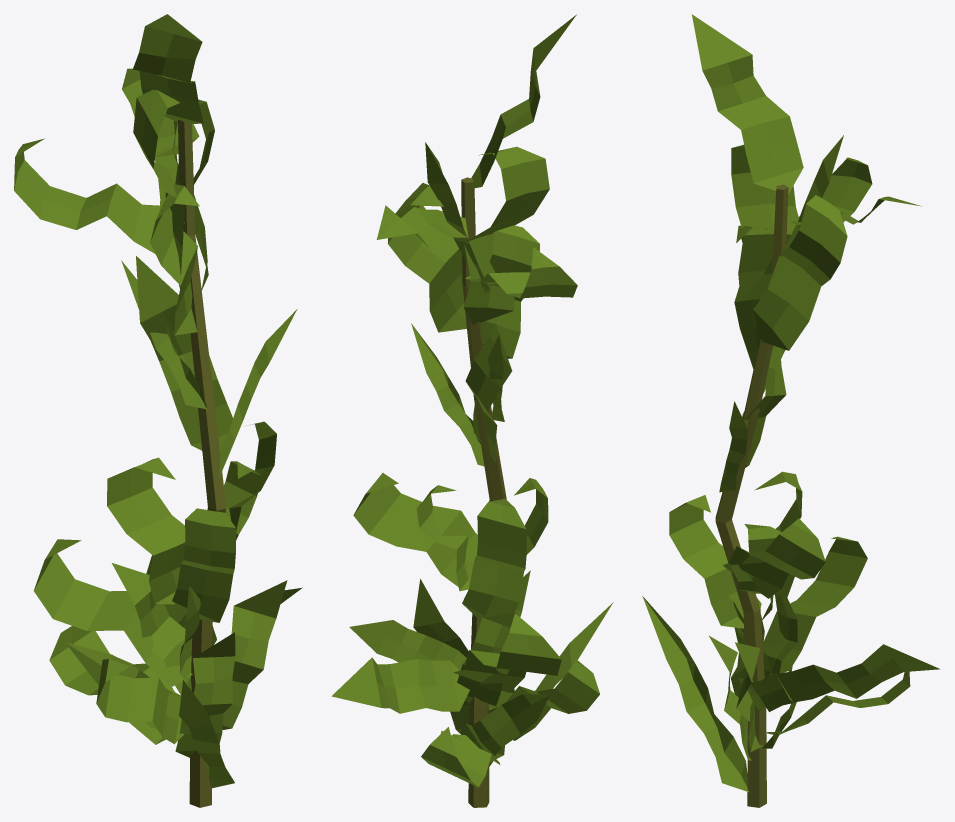
Rendered from Corn2.glb.
The picture shows the model from 3 angles, left to right: view 1: azimuth 30°, elevation 25°; view 2: azimuth 150°, elevation 25°; view 3: azimuth 270°, elevation 25°; orthographic projection. The views are drawn at different scales.
Parts seen in each view (by area): view 1: Corn.Geo.001; view 2: Corn.Geo.001; view 3: Corn.Geo.001.
Boxes of the visible parts, left/top/right/bottom form: Corn.Geo.001: left=14, top=14, right=302, bottom=807; Corn.Geo.001: left=331, top=14, right=613, bottom=807; Corn.Geo.001: left=642, top=14, right=940, bottom=807.
Bounding box in the file's own units: 2.6 × 7.75 × 2.76.
